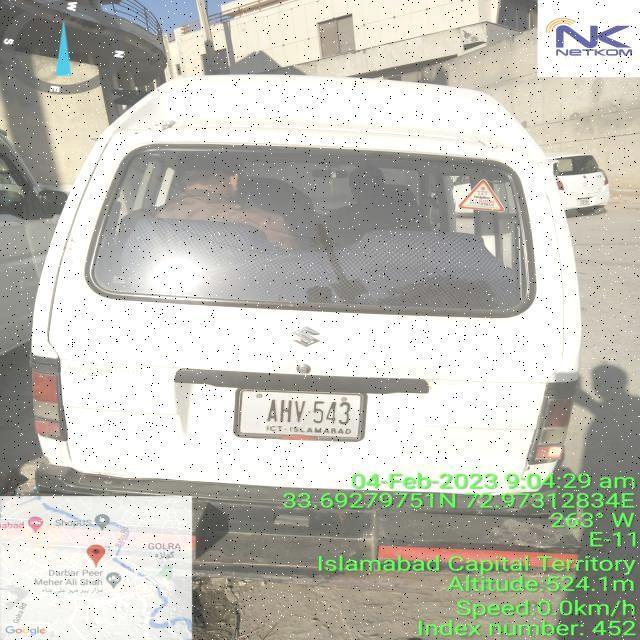LicensePlate: (220, 378, 382, 452)
